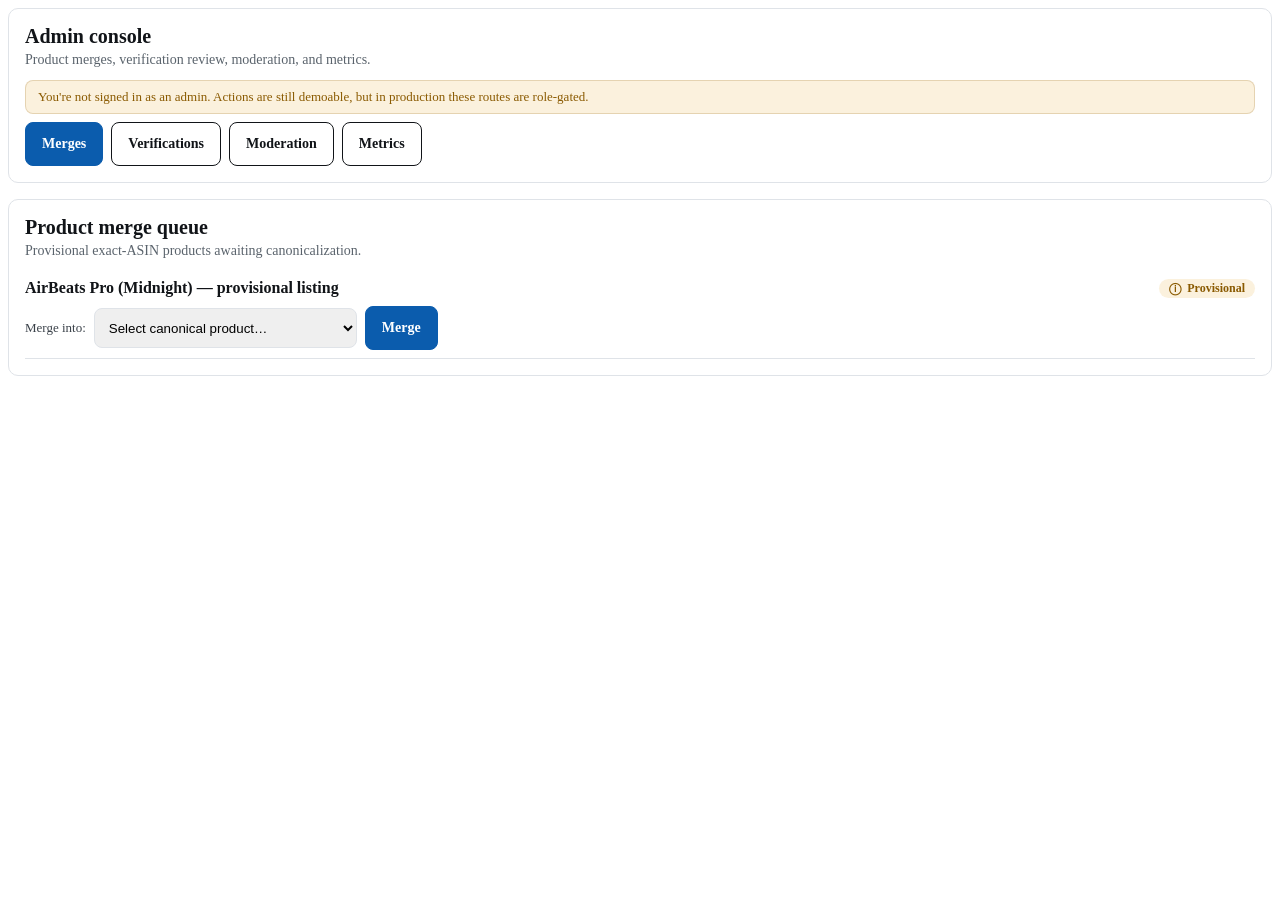
Test: Admin console › renders the metrics summary tab
Click the button "Metrics": (382, 144) x1=342 y1=122 x2=422 y2=166
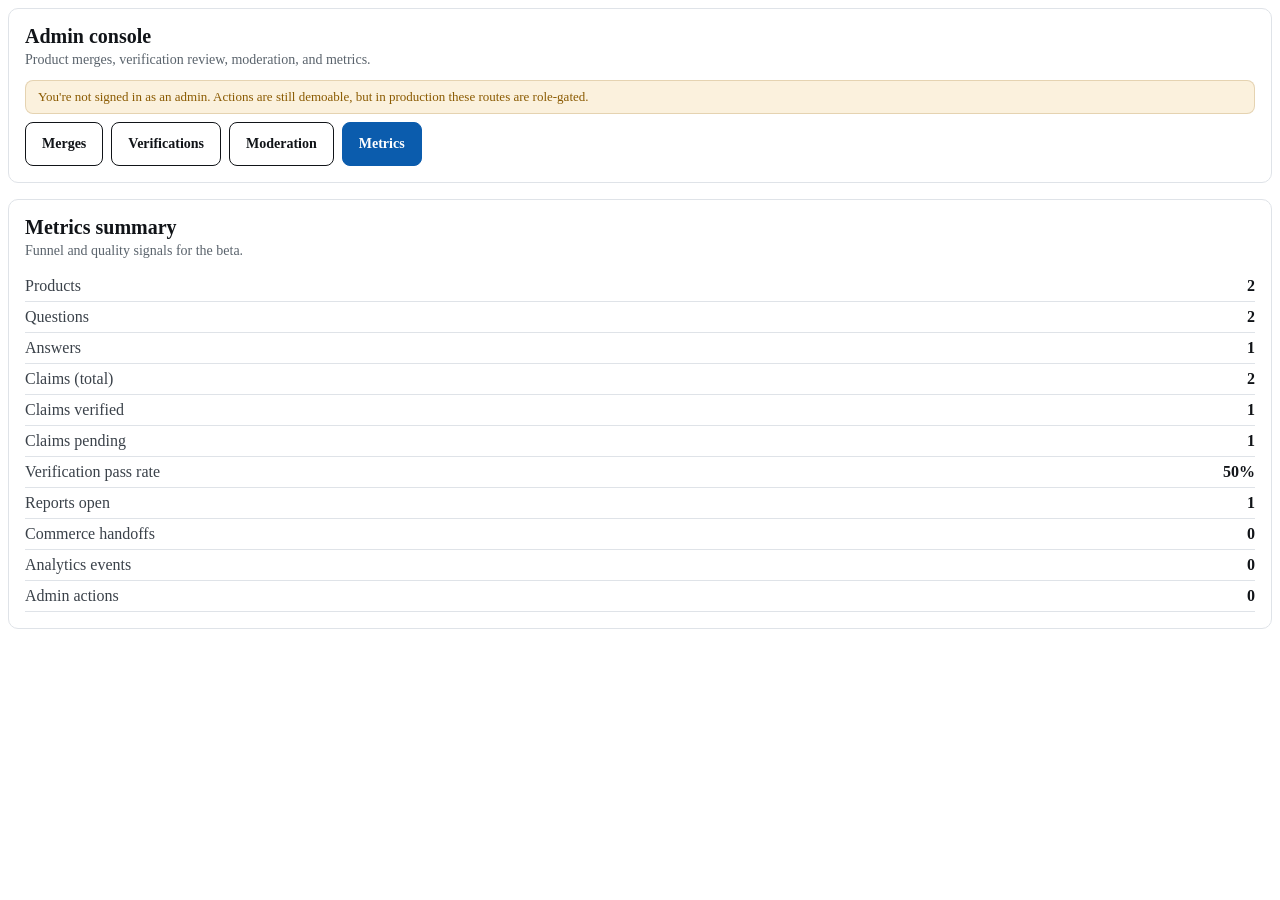
Expected: the text "Metrics summary" is shown, x1=25 y1=216 x2=177 y2=238
Expected: the text "Verification pass rate" is shown, x1=25 y1=456 x2=1019 y2=488
Expected: the text "Commerce handoffs" is shown, x1=25 y1=518 x2=1019 y2=550
